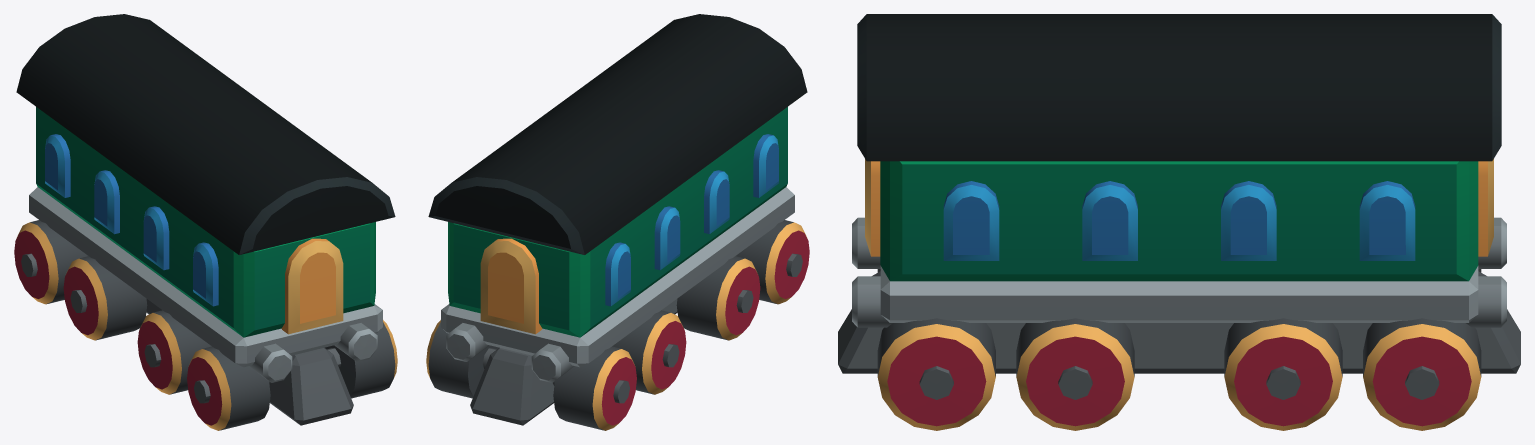
File: train_wagon.obj
The picture shows the model from 3 angles, left to right: view 1: azimuth 30°, elevation 25°; view 2: azimuth 150°, elevation 25°; view 3: azimuth 270°, elevation 25°; orthographic projection. The views are drawn at different scales.
Parts seen in each view (by area): view 1: train_wagon; view 2: train_wagon; view 3: train_wagon.
Part boxes in pixels (box(x1,y1,x2,y2)): train_wagon: box(14, 14, 397, 430); train_wagon: box(426, 14, 809, 430); train_wagon: box(838, 14, 1520, 430).
Size of the model in its own units: 0.4324 by 0.5504 by 0.9847.
Materials: 1 (1 with a texture image).
